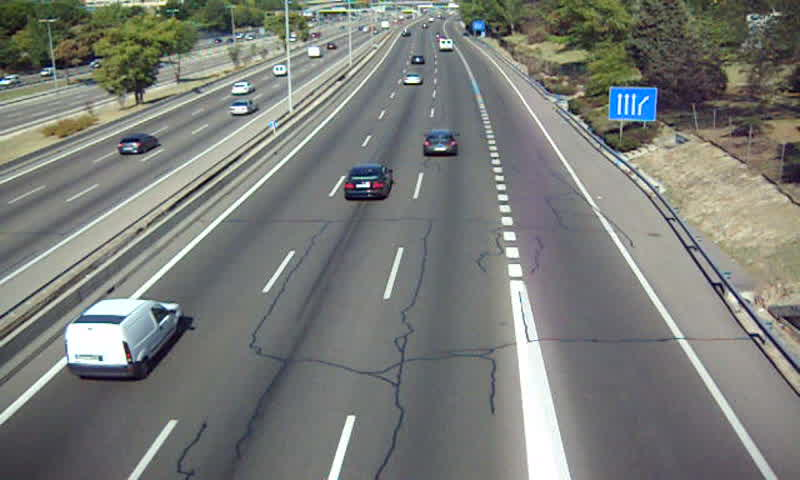car: (345, 165, 391, 200), (424, 133, 458, 156), (402, 72, 423, 86), (408, 54, 425, 68)
van: (65, 299, 182, 377)
